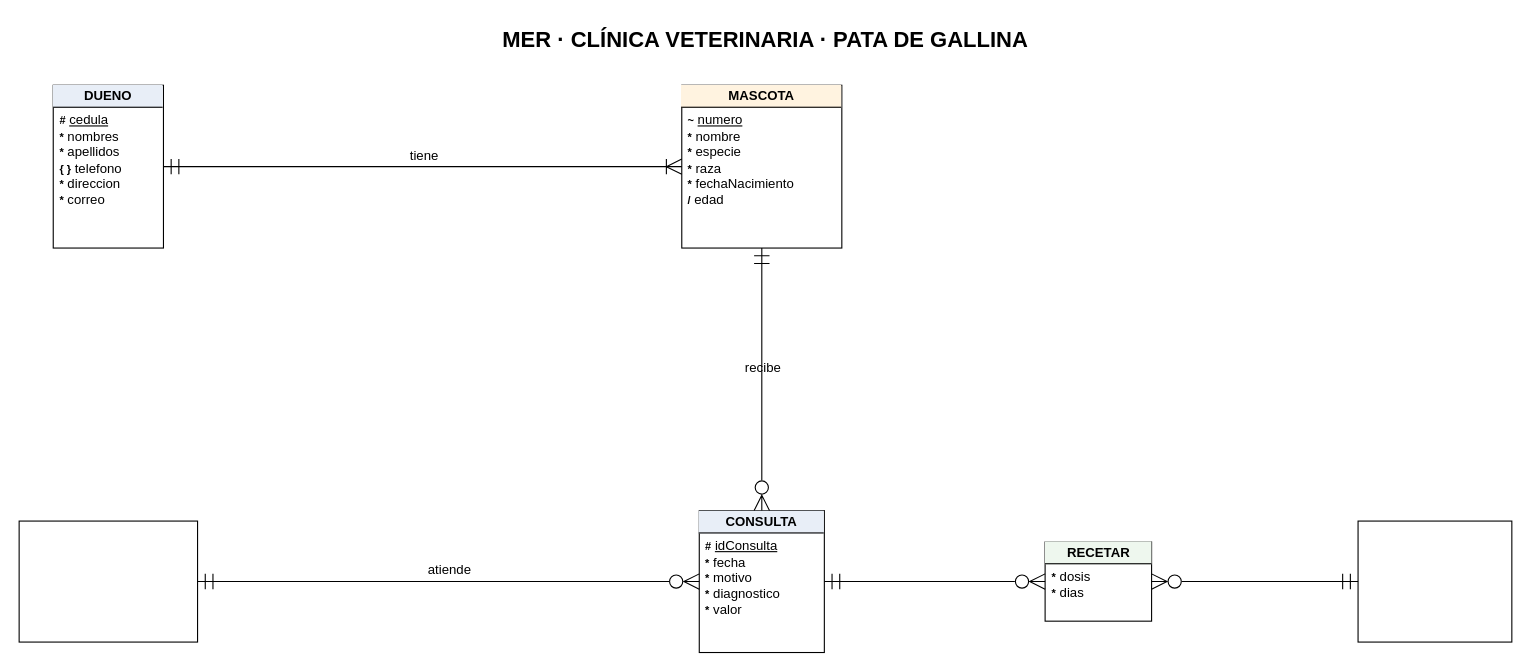
This 1531x672 diagram has some shape labels left out. The box of each missing label's shape, as (x1, y1, x2, y2) in pixels:
MEDICAMENTO # codigo * nombre * presentacion * precio: (1357, 520, 1512, 642)
VETERINARIO # idVeterinario * nombre * tarjetaProfesional * especialidad: (18, 520, 198, 642)
